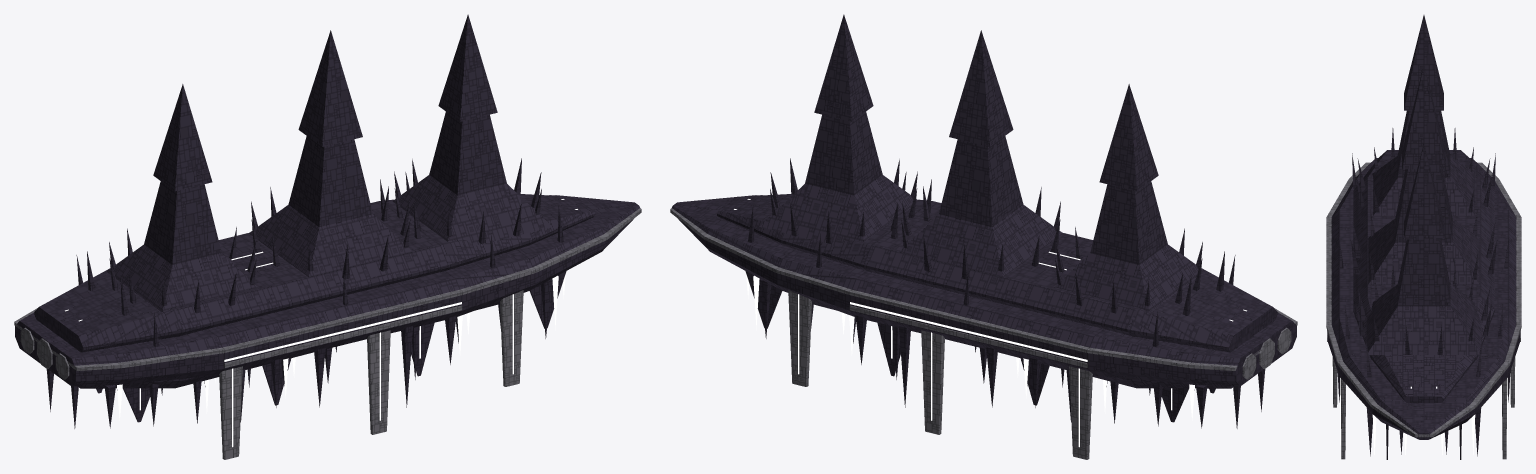
File: dark_lod1.glb
The picture shows the model from 3 angles, left to right: view 1: azimuth 30°, elevation 25°; view 2: azimuth 150°, elevation 25°; view 3: azimuth 270°, elevation 25°; orthographic projection. The views are drawn at different scales.
Parts seen in each view (by area): view 1: dark_lod1_body, dark_lod1_glow; view 2: dark_lod1_body, dark_lod1_glow; view 3: dark_lod1_body, dark_lod1_glow.
Boxes of the visible parts, <box> form: dark_lod1_body: <box>14,14,641,459</box>; dark_lod1_glow: <box>65,199,577,447</box>; dark_lod1_body: <box>670,14,1297,459</box>; dark_lod1_glow: <box>734,199,1246,447</box>; dark_lod1_body: <box>1326,15,1521,459</box>; dark_lod1_glow: <box>1331,354,1516,454</box>.
Size of the model in its own units: 22.45 by 13.3 by 6.92.
Materials: 2 (1 with a texture image).
